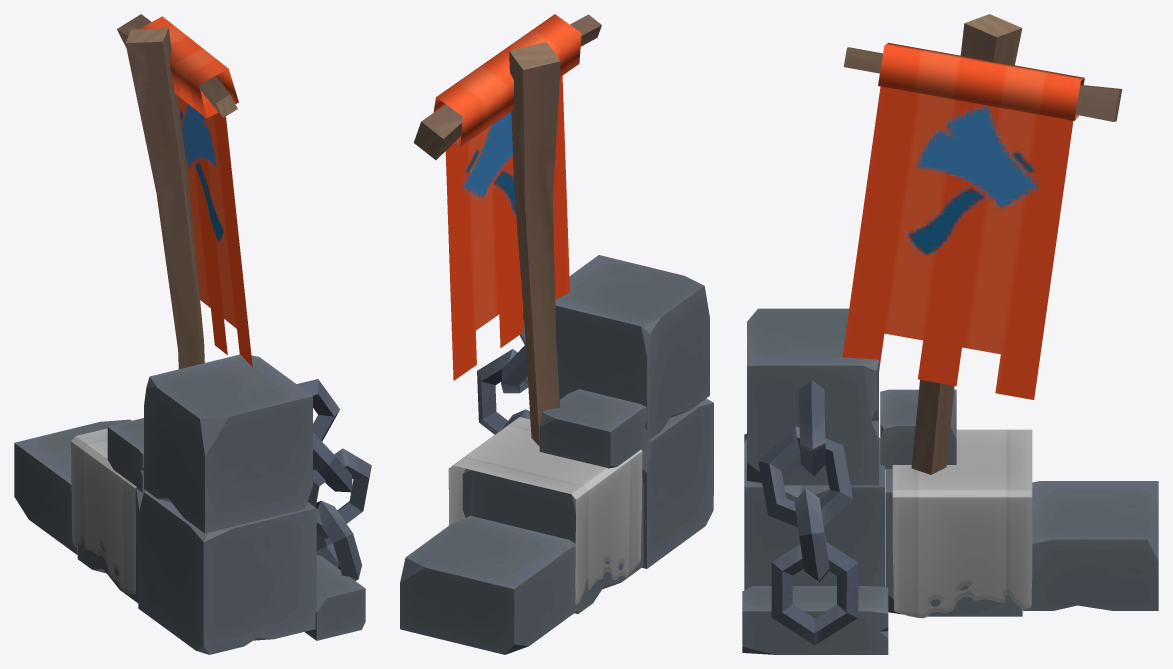
The model's file is Wall1B-011_40_25_7034.fbx.
The picture shows the model from 3 angles, left to right: view 1: azimuth 30°, elevation 25°; view 2: azimuth 150°, elevation 25°; view 3: azimuth 270°, elevation 25°; orthographic projection. The views are drawn at different scales.
Parts seen in each view (by area): view 1: 1B_Wall1, Wood1.002 (1), Flag4 (1), Plane_002, ClothTop5 (1), ChainLink (5), ChainLink (8), ChainLink (7), Wood1.002 (2), ChainLink (6); view 2: 1B_Wall1, Flag4 (1), Wood1.002 (1), Plane_002, ClothTop5 (1), Wood1.002 (2), ChainLink (8), ChainLink (7); view 3: 1B_Wall1, Flag4 (1), Plane_002, ClothTop5 (1), Wood1.002 (1), ChainLink (5), ChainLink (7), ChainLink (6), ChainLink (8), Wood1.002 (2).
Boxes of the visible parts, x1,y1,x2,y2 form: 1B_Wall1: [14, 354, 365, 654]; Wood1.002 (1): [125, 28, 204, 369]; Flag4 (1): [177, 76, 252, 367]; Plane_002: [71, 428, 136, 594]; ClothTop5 (1): [139, 16, 238, 118]; ChainLink (5): [315, 500, 361, 580]; ChainLink (8): [307, 448, 371, 538]; ChainLink (7): [313, 432, 352, 492]; Wood1.002 (2): [117, 14, 237, 117]; ChainLink (6): [297, 379, 339, 441]; 1B_Wall1: [400, 255, 713, 654]; Flag4 (1): [445, 76, 569, 380]; Wood1.002 (1): [509, 42, 560, 446]; Plane_002: [448, 417, 642, 604]; ClothTop5 (1): [433, 14, 581, 146]; Wood1.002 (2): [413, 14, 601, 159]; ChainLink (8): [477, 349, 530, 434]; ChainLink (7): [501, 345, 528, 393]; 1B_Wall1: [742, 308, 1158, 654]; Flag4 (1): [842, 86, 1073, 399]; Plane_002: [892, 429, 1032, 618]; ClothTop5 (1): [878, 42, 1084, 120]; Wood1.002 (1): [911, 14, 1022, 474]; ChainLink (5): [771, 541, 858, 645]; ChainLink (7): [758, 426, 852, 527]; ChainLink (6): [799, 380, 826, 476]; ChainLink (8): [794, 488, 829, 582]; Wood1.002 (2): [843, 47, 1122, 121].
Size of the model in its own units: 1.78 by 4.57 by 2.98.
